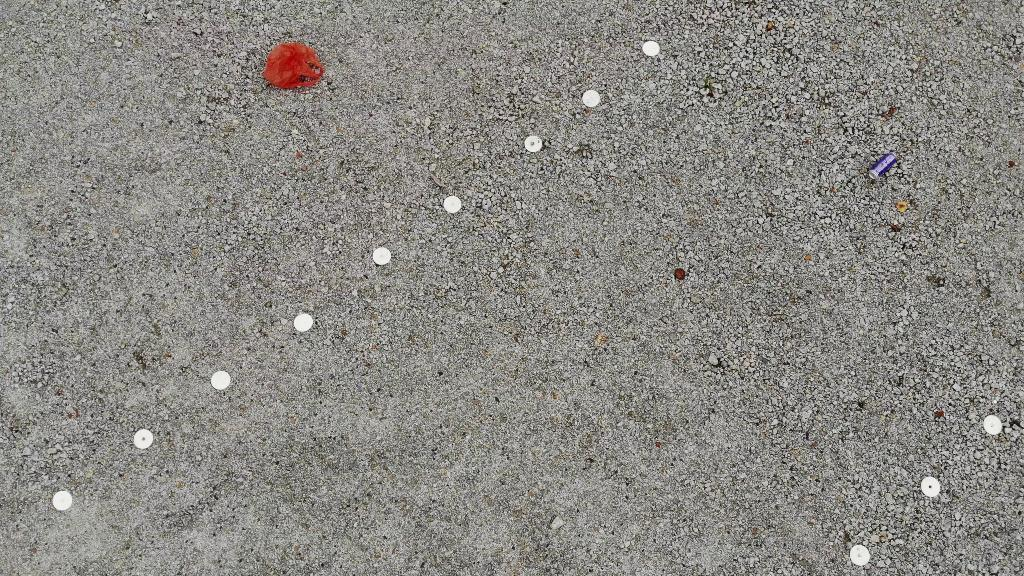garbage: (261, 42, 325, 93), (867, 147, 905, 182)
